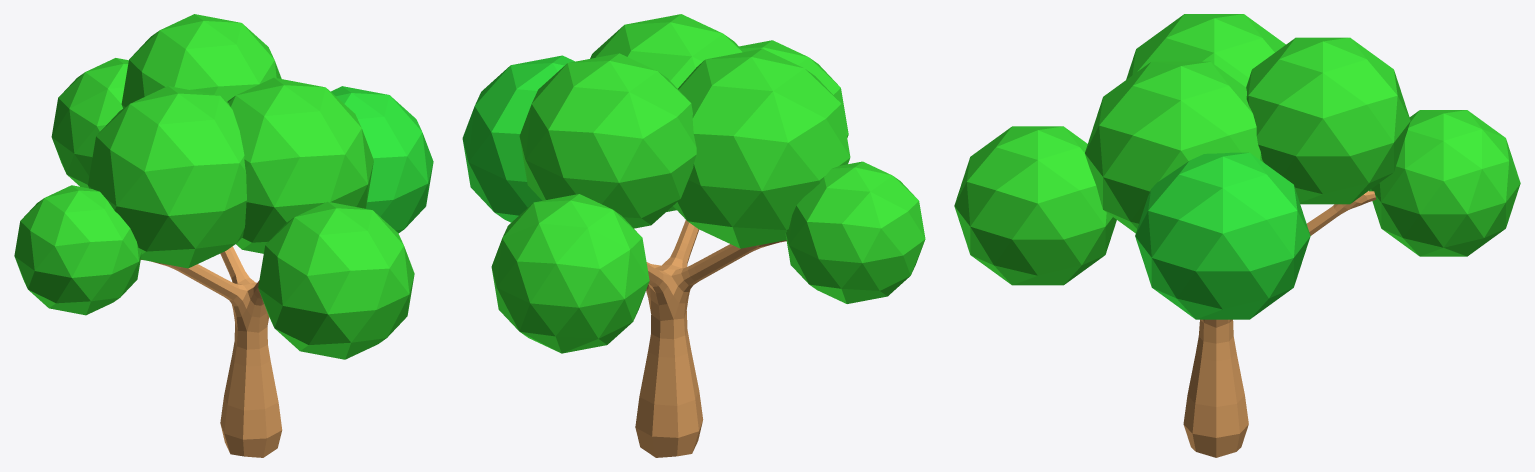
The model's file is Tree.fbx.
3 renders of one model, left to right at view 1: azimuth 30°, elevation 25°; view 2: azimuth 150°, elevation 25°; view 3: azimuth 270°, elevation 25°, orthographic. The views are drawn at different scales.
Visible parts, largest first — view 1: Icosphere.004, Icosphere.006, Icosphere.003, Icosphere.005, Icosphere, Plane, Icosphere.001, Icosphere.002; view 2: Icosphere.004, Icosphere, Icosphere.002, Icosphere.005, Plane, Icosphere.001, Icosphere.003, Icosphere.006; view 3: Icosphere.001, Icosphere, Icosphere.006, Icosphere.003, Icosphere.002, Plane, Icosphere.004.
Boxes of the visible parts, box(x1,y1,x2,y2) form: Icosphere.004: box(88, 86, 246, 268); Icosphere.006: box(258, 201, 414, 359); Icosphere.003: box(227, 77, 373, 253); Icosphere.005: box(14, 185, 141, 315); Icosphere: box(121, 14, 281, 108); Plane: box(141, 246, 282, 457); Icosphere.001: box(330, 86, 433, 233); Icosphere.002: box(51, 58, 128, 188); Icosphere.004: box(673, 48, 850, 248); Icosphere: box(519, 53, 696, 228); Icosphere.002: box(491, 194, 649, 353); Icosphere.005: box(785, 161, 925, 303); Plane: box(635, 220, 786, 457); Icosphere.001: box(462, 55, 574, 222); Icosphere.003: box(590, 14, 743, 211); Icosphere.006: box(739, 40, 848, 137); Icosphere.001: box(1135, 152, 1310, 319); Icosphere: box(1246, 37, 1410, 204); Icosphere.006: box(954, 126, 1116, 285); Icosphere.003: box(1085, 61, 1262, 233); Icosphere.002: box(1369, 110, 1520, 256); Plane: box(1183, 191, 1376, 457); Icosphere.004: box(1126, 14, 1285, 86).
Bounding box in the file's own units: 820 × 785 × 968.
